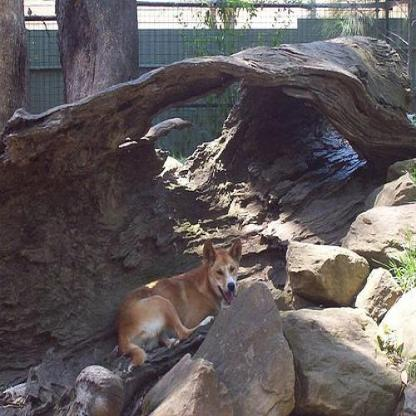dingo: (116, 236, 242, 372)
